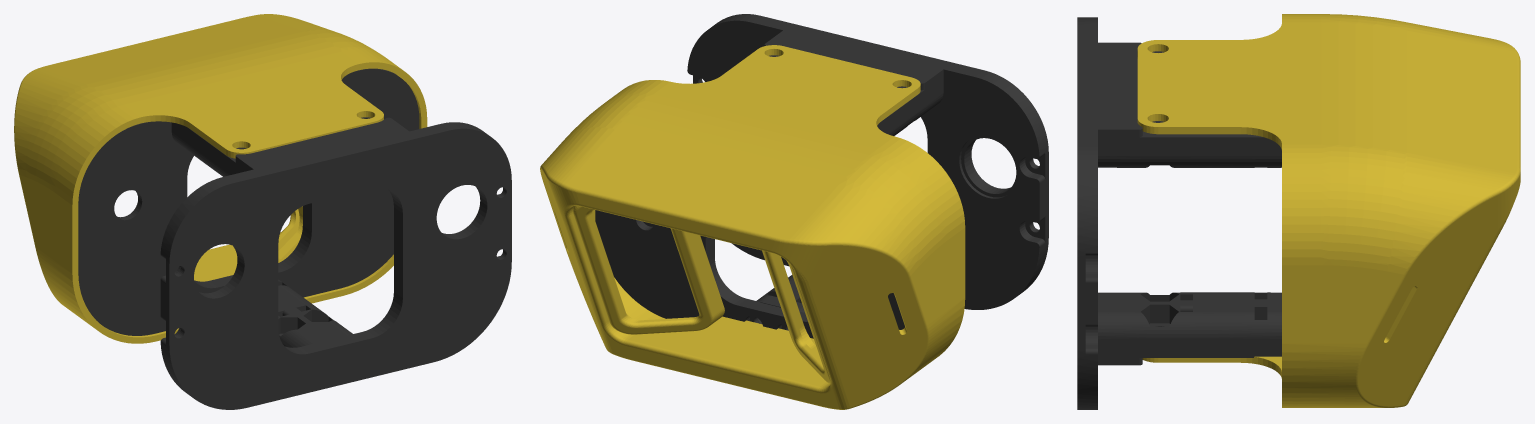
File: front.dae
The picture shows the model from 3 angles, left to right: view 1: azimuth 30°, elevation 25°; view 2: azimuth 150°, elevation 25°; view 3: azimuth 270°, elevation 25°; orthographic projection. The views are drawn at different scales.
Parts seen in each view (by area): view 1: R_shoulder_001, F_cover, F_shoulder_001; view 2: F_cover, R_shoulder_001, F_shoulder_001; view 3: F_cover, R_shoulder_001.
Boxes of the visible parts, left/top/right/bottom form: R_shoulder_001: left=160, top=117, right=511, bottom=409; F_cover: left=14, top=14, right=427, bottom=343; F_shoulder_001: left=78, top=68, right=419, bottom=335; F_cover: left=540, top=45, right=965, bottom=409; R_shoulder_001: left=687, top=14, right=1048, bottom=323; F_shoulder_001: left=595, top=210, right=904, bottom=338; F_cover: left=1137, top=14, right=1520, bottom=407; R_shoulder_001: left=1077, top=17, right=1281, bottom=409.
Size of the model in its own units: 114 by 107 by 70.46.
